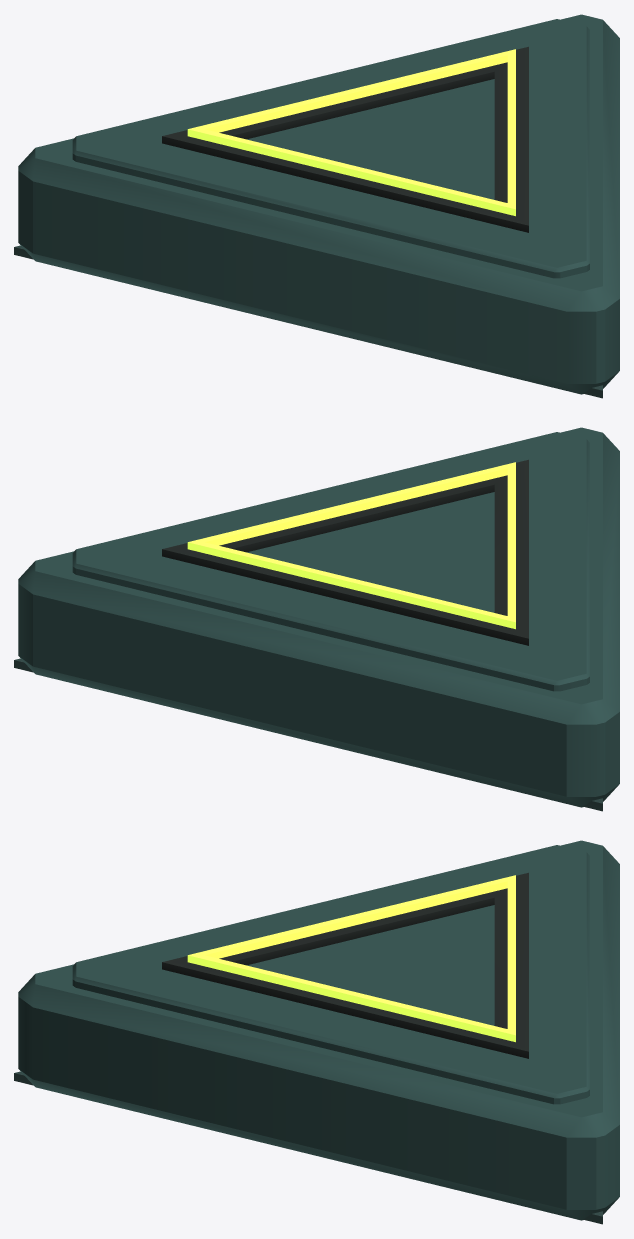
The model's file is enemy_swarm_remnant.glb.
3 views of the same model, one above another, from view 1: azimuth 30°, elevation 25°; view 2: azimuth 150°, elevation 25°; view 3: azimuth 270°, elevation 25° (orthographic).
Visible parts, largest first — view 1: RemnantBody, RemnantSeam; view 2: RemnantBody, RemnantSeam; view 3: RemnantBody, RemnantSeam.
Part boxes in pixels (x1,y1,x2,y2): RemnantBody: (14, 14, 619, 398); RemnantSeam: (187, 49, 515, 216); RemnantBody: (14, 427, 619, 811); RemnantSeam: (187, 462, 515, 629); RemnantBody: (14, 840, 619, 1224); RemnantSeam: (187, 875, 515, 1042).
Bounding box in the file's own units: 1.2 × 0.246 × 1.06.
